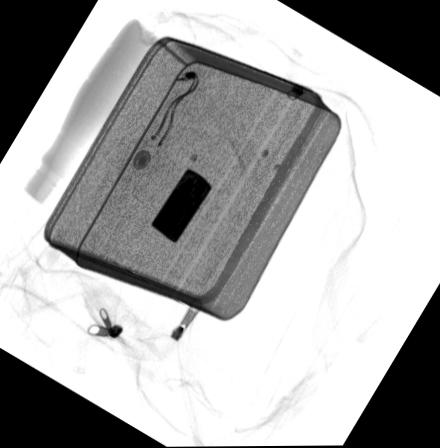Lighter: (149, 168, 213, 244)
